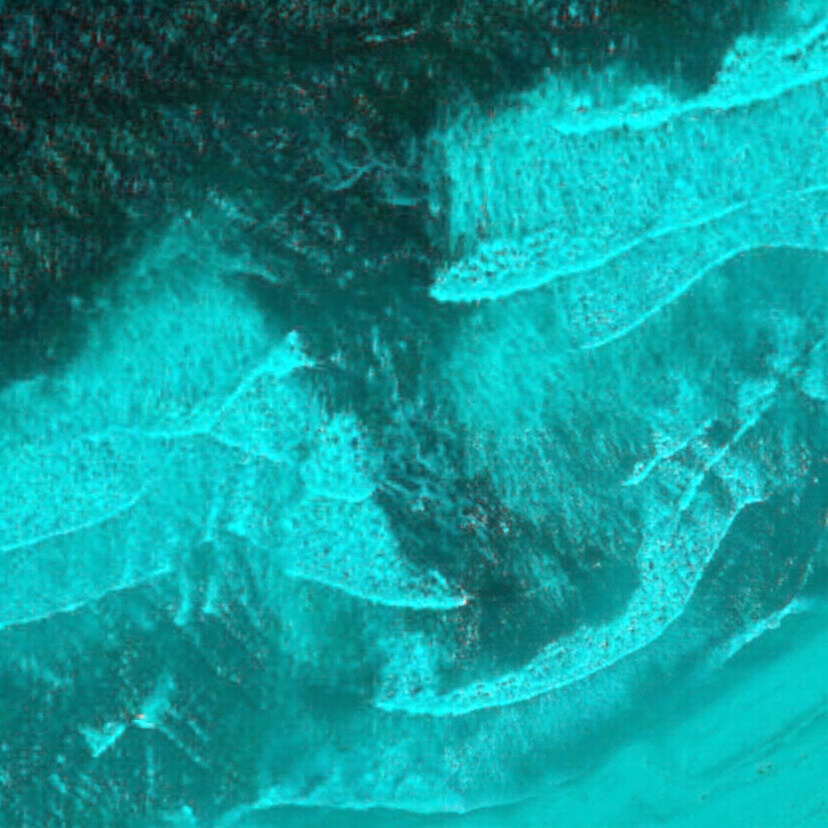rip_current: (140, 106, 648, 661)
